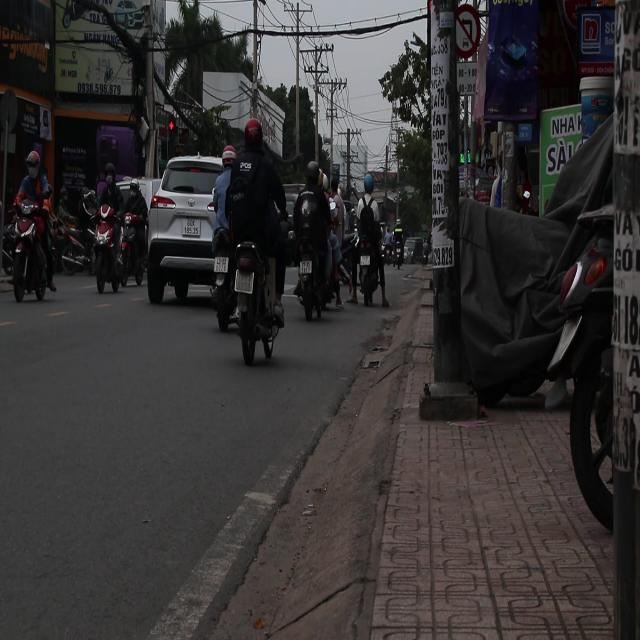car: (144, 153, 224, 310)
motorbike: (217, 239, 286, 367), (2, 204, 55, 302), (86, 204, 125, 292), (294, 239, 327, 321), (57, 211, 95, 275), (118, 210, 149, 288)
